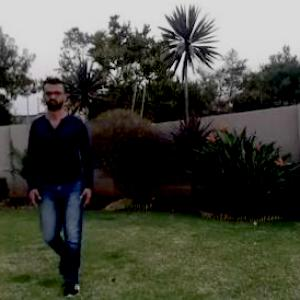follow: (37, 87, 92, 277)
